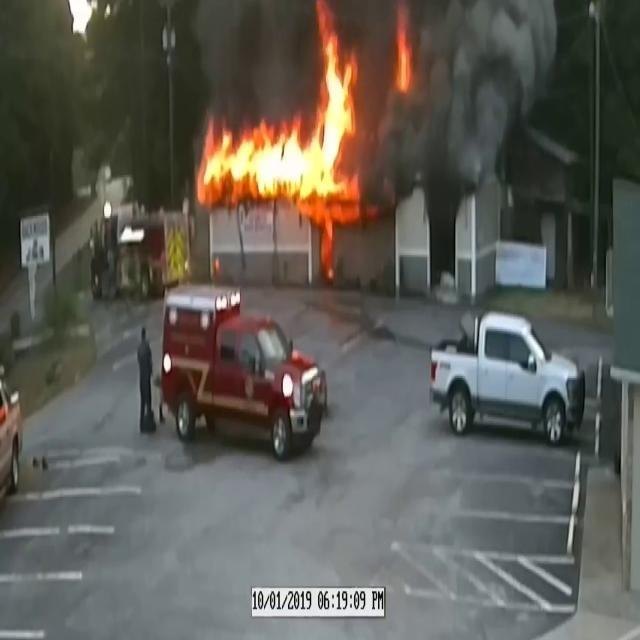Fire: (199, 18, 367, 216)
Smoke: (358, 0, 562, 212)
